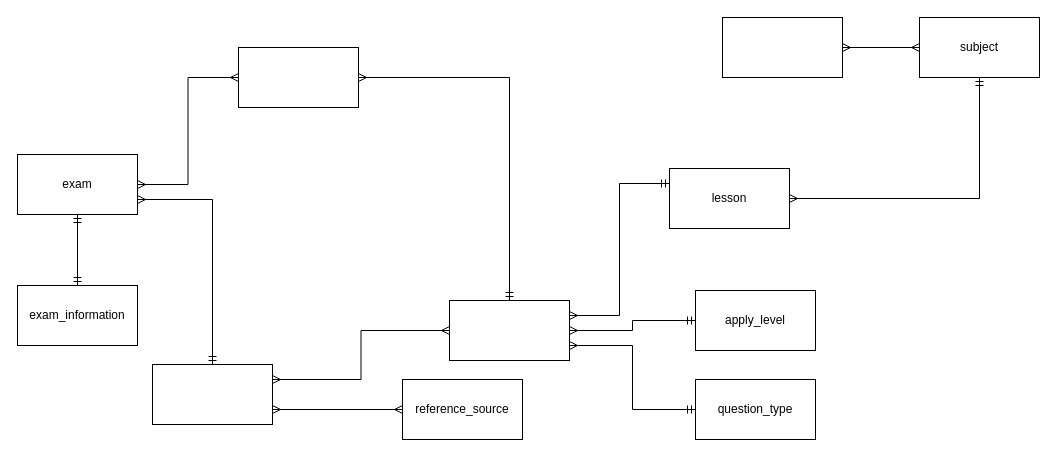
This 1057x457 diagram has some shape labels left out. Here are the shapes that lost their labels. From the top down, the box of each, then its label:
(722, 16, 842, 78): grade
(238, 46, 358, 108): question
(448, 300, 570, 360): structure
(152, 364, 272, 424): matrix
